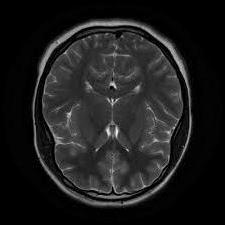Normal_Brain: (1, 7, 225, 225)
